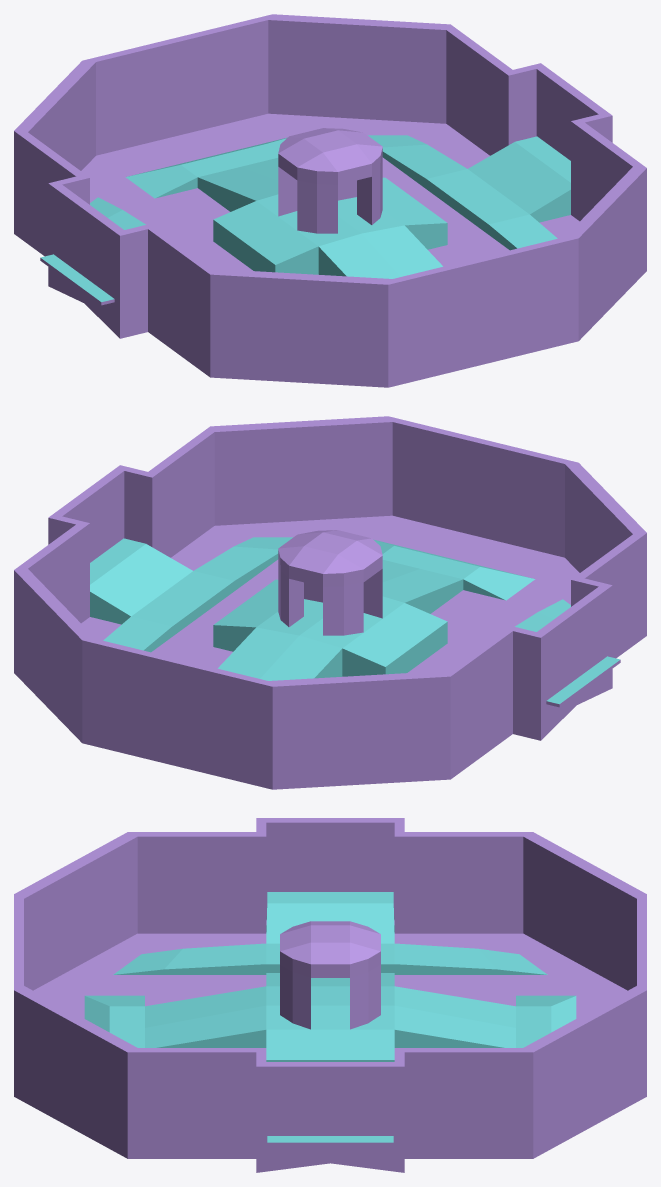
The model's file is Level2.fbx.
3 views of the same model, one above another, from view 1: azimuth 30°, elevation 25°; view 2: azimuth 150°, elevation 25°; view 3: azimuth 270°, elevation 25° (orthographic). The views are drawn at different scales.
Visible parts, largest first — view 1: Cube; view 2: Cube; view 3: Cube.
Boxes of the visible parts, box(x1,y1,x2,y2) form: Cube: box(14, 14, 646, 387); Cube: box(14, 416, 646, 789); Cube: box(14, 818, 646, 1172).
Size of the model in its own units: 4032 by 893 by 4118.
